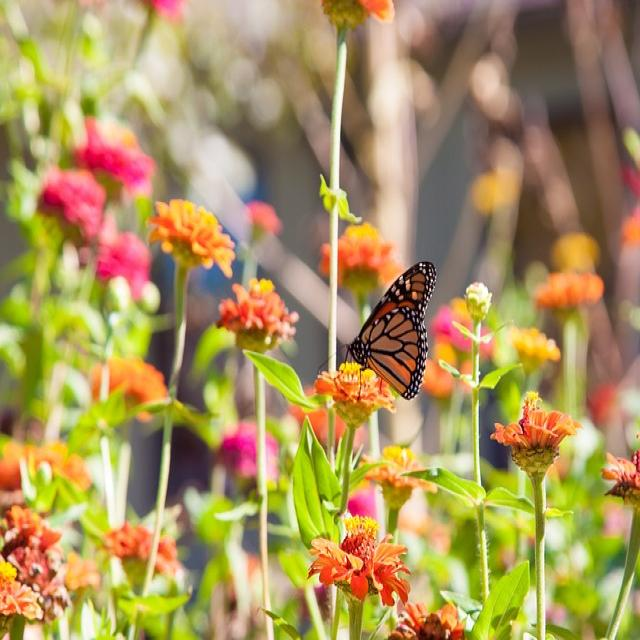butterfly: (346, 262, 436, 401)
